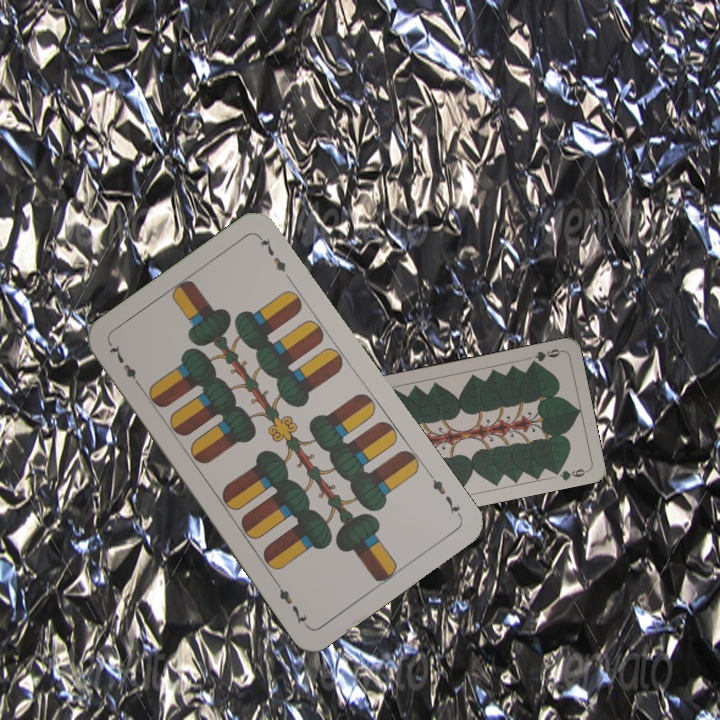E7: (424, 468, 464, 520), (105, 340, 145, 391)
G9: (526, 345, 565, 368)
